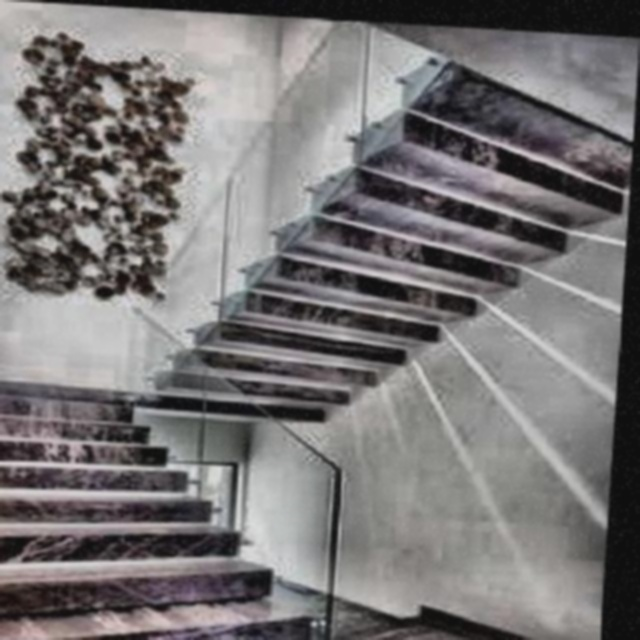stair: (0, 376, 365, 638)
